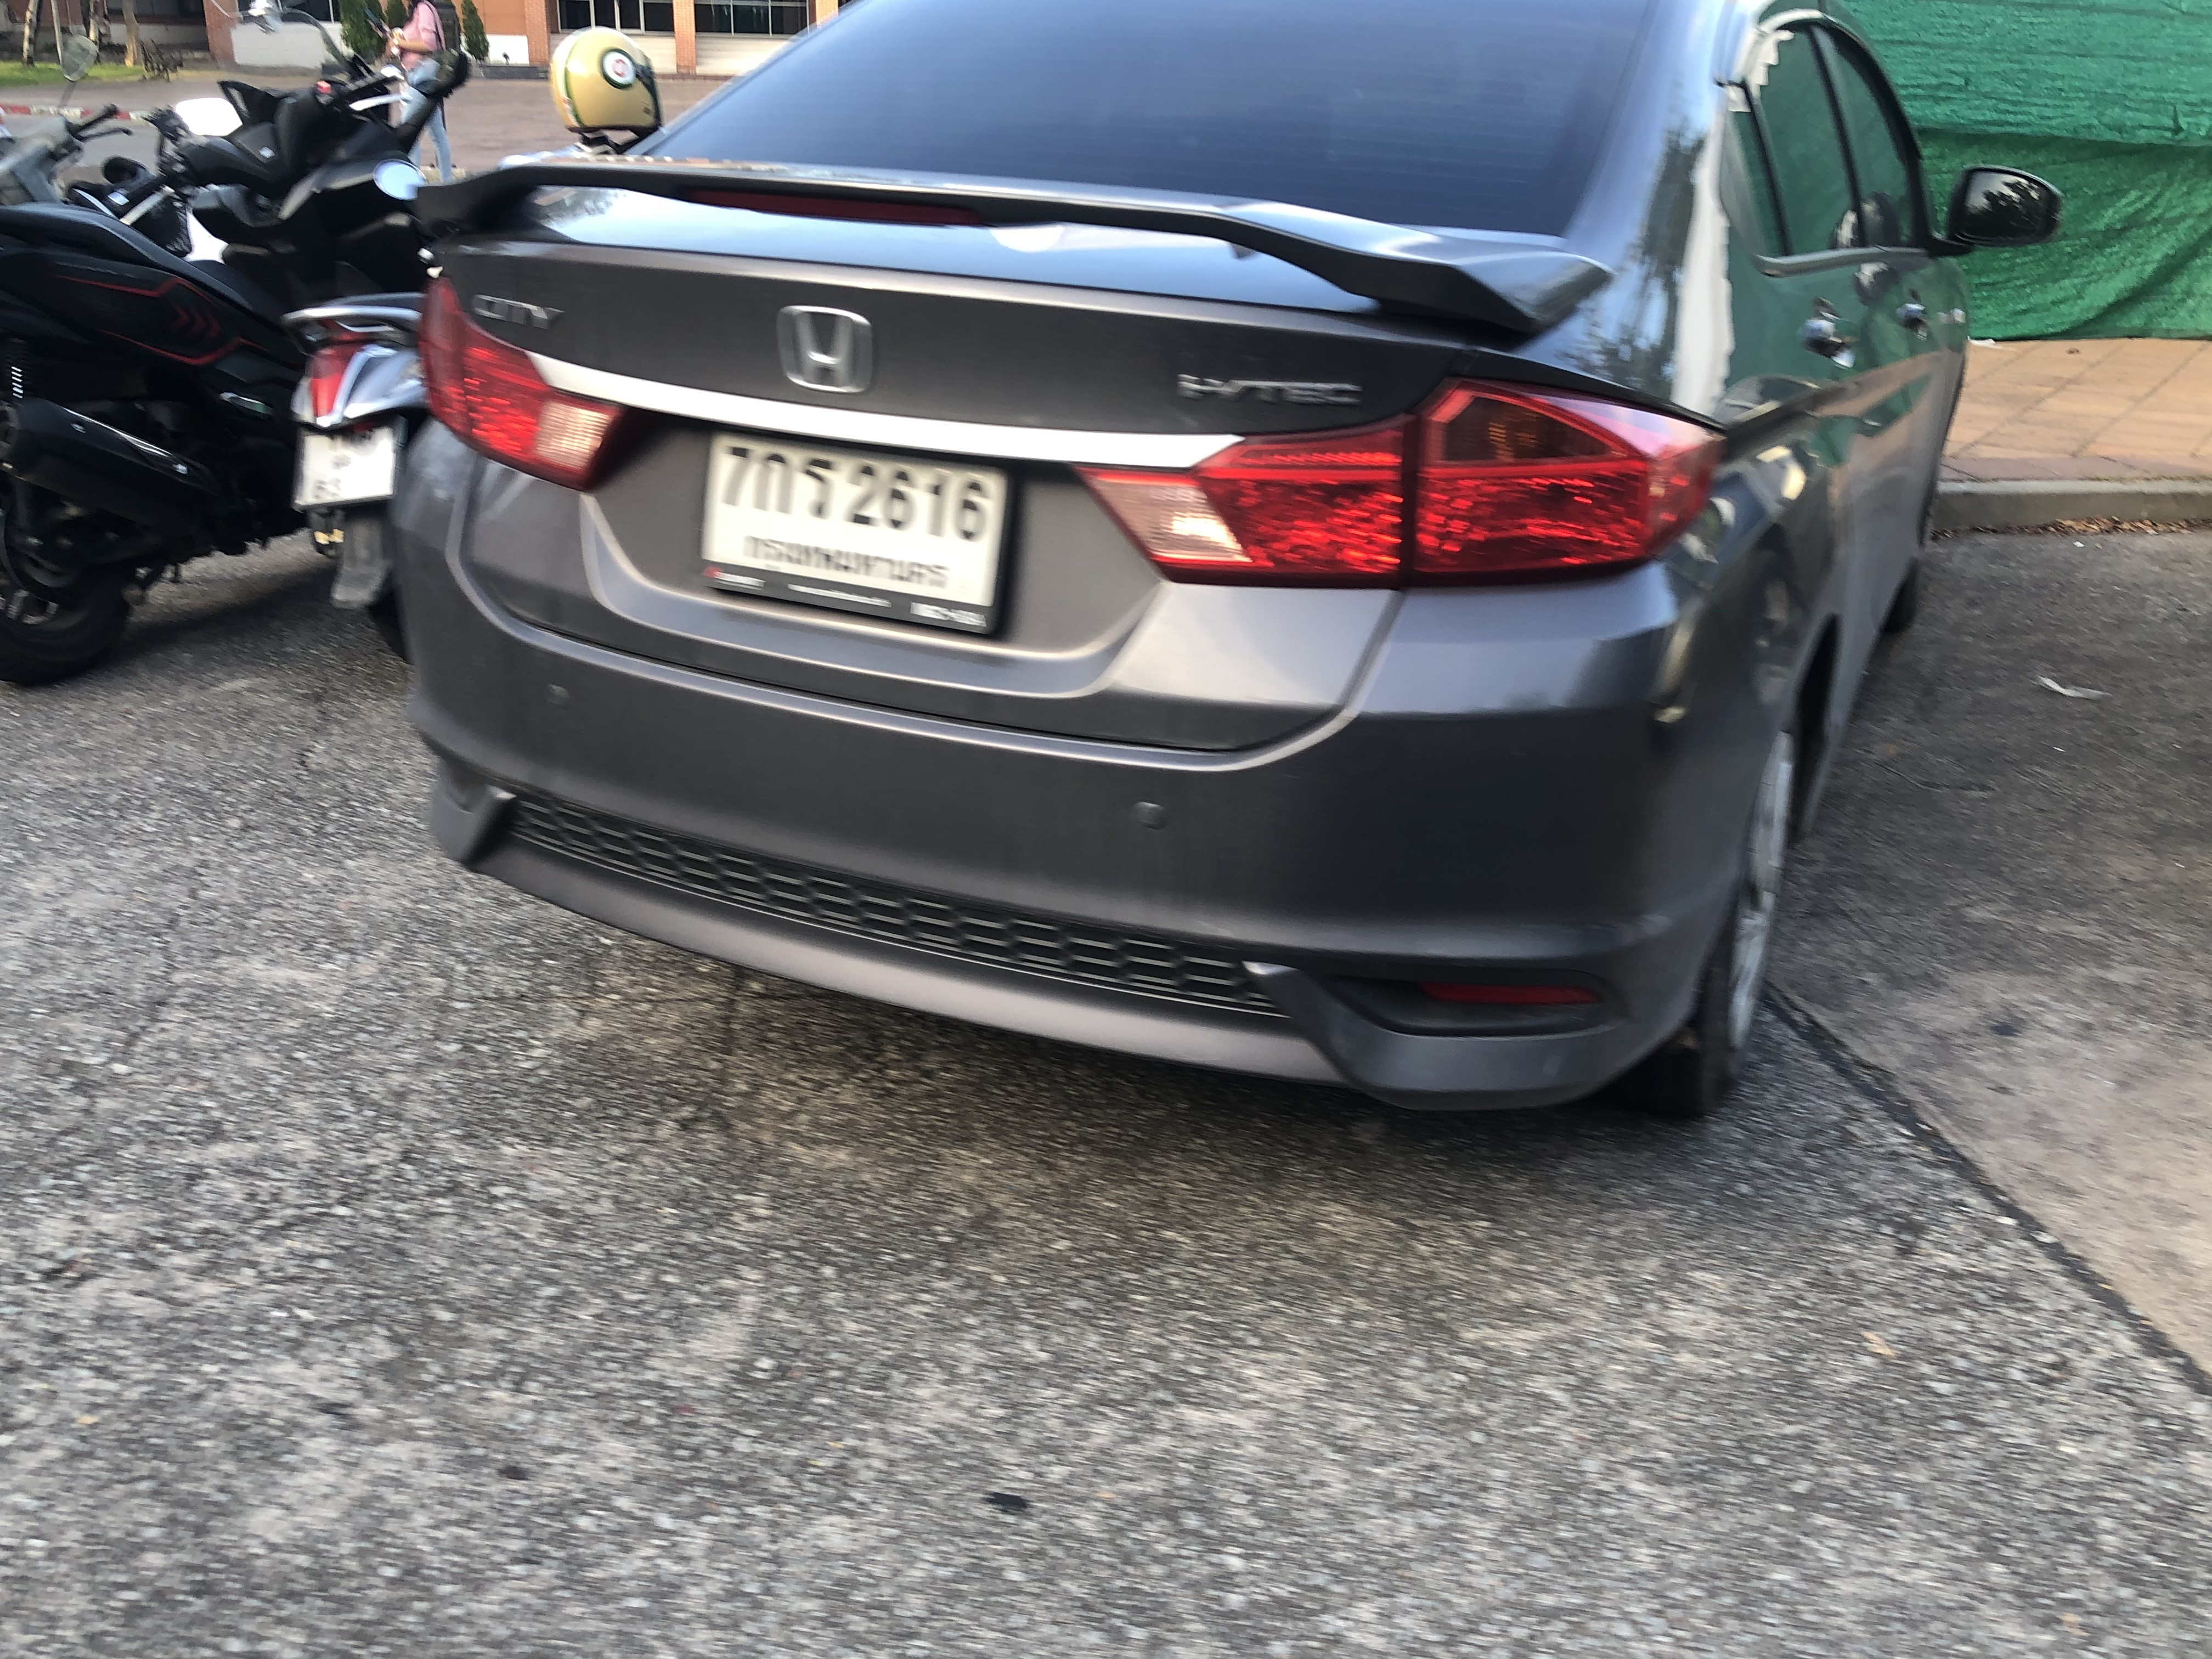in: (702, 432, 1008, 610)
out: (688, 411, 1021, 640)
